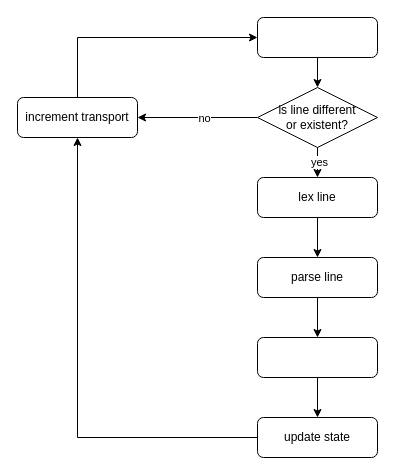
Image size: 395x475. Some labels were removed from this diagram. Each missing label, with the centre of its shape:
"interpret line" belongs at point (317, 357).
"read file" belongs at point (317, 37).
